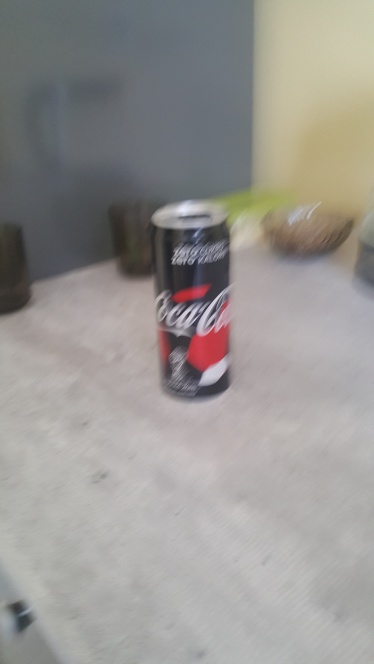colazero: (149, 195, 229, 400)
